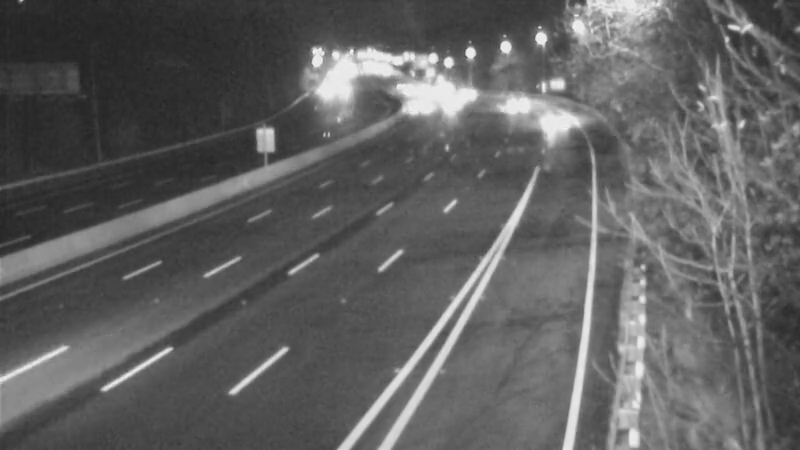vehicle: (427, 81, 477, 131), (484, 76, 534, 126), (386, 84, 436, 134), (527, 99, 577, 149)
